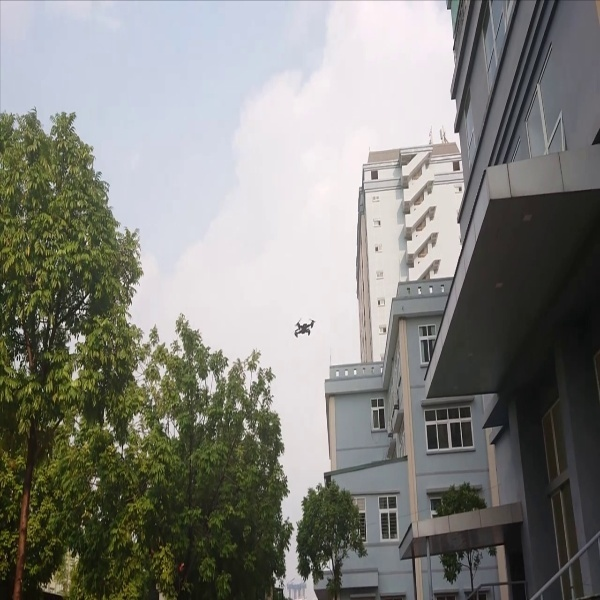drone: (287, 313, 321, 341)
